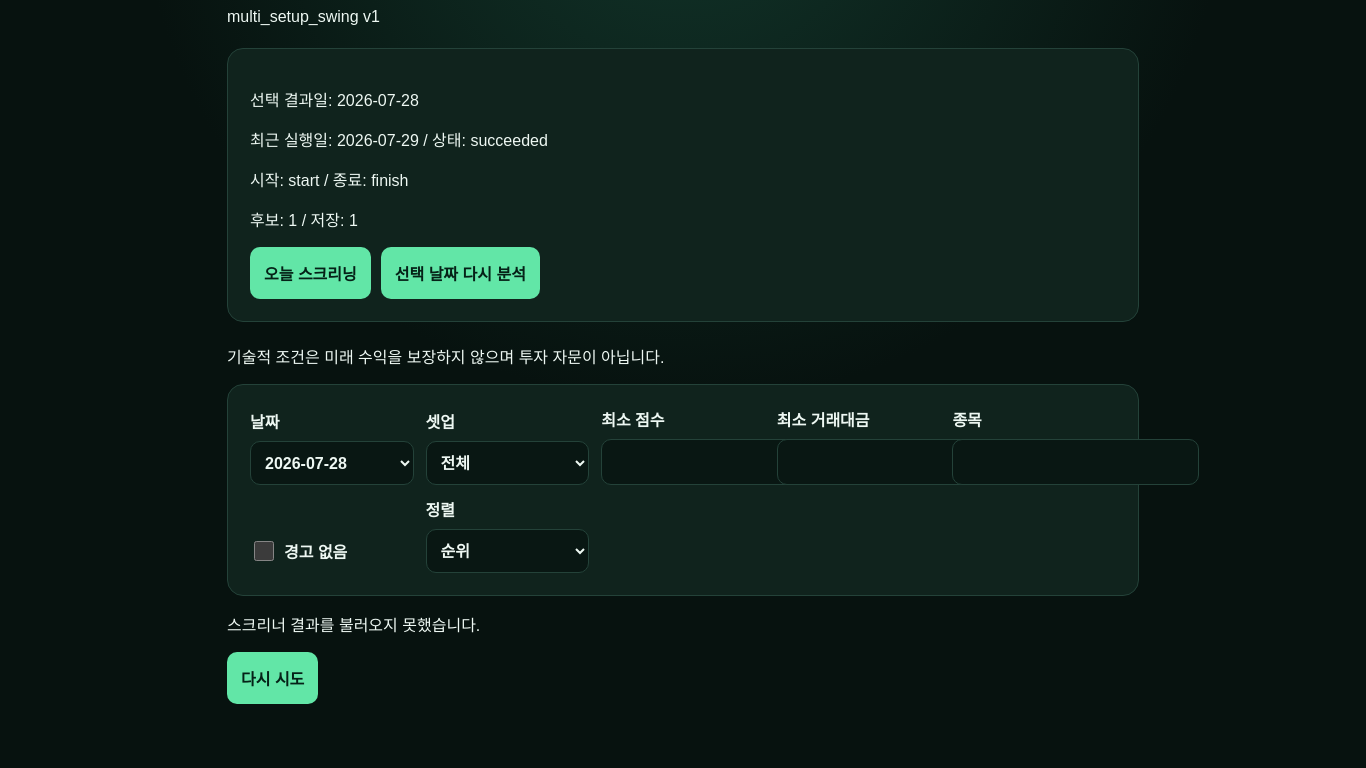
Test: ScreenerDashboard › retries the failed selected-date request
This screenshot has width=1366, height=768.
(page scrolled)
Click the button "다시 시도": (273, 678) x1=227 y1=652 x2=318 y2=704
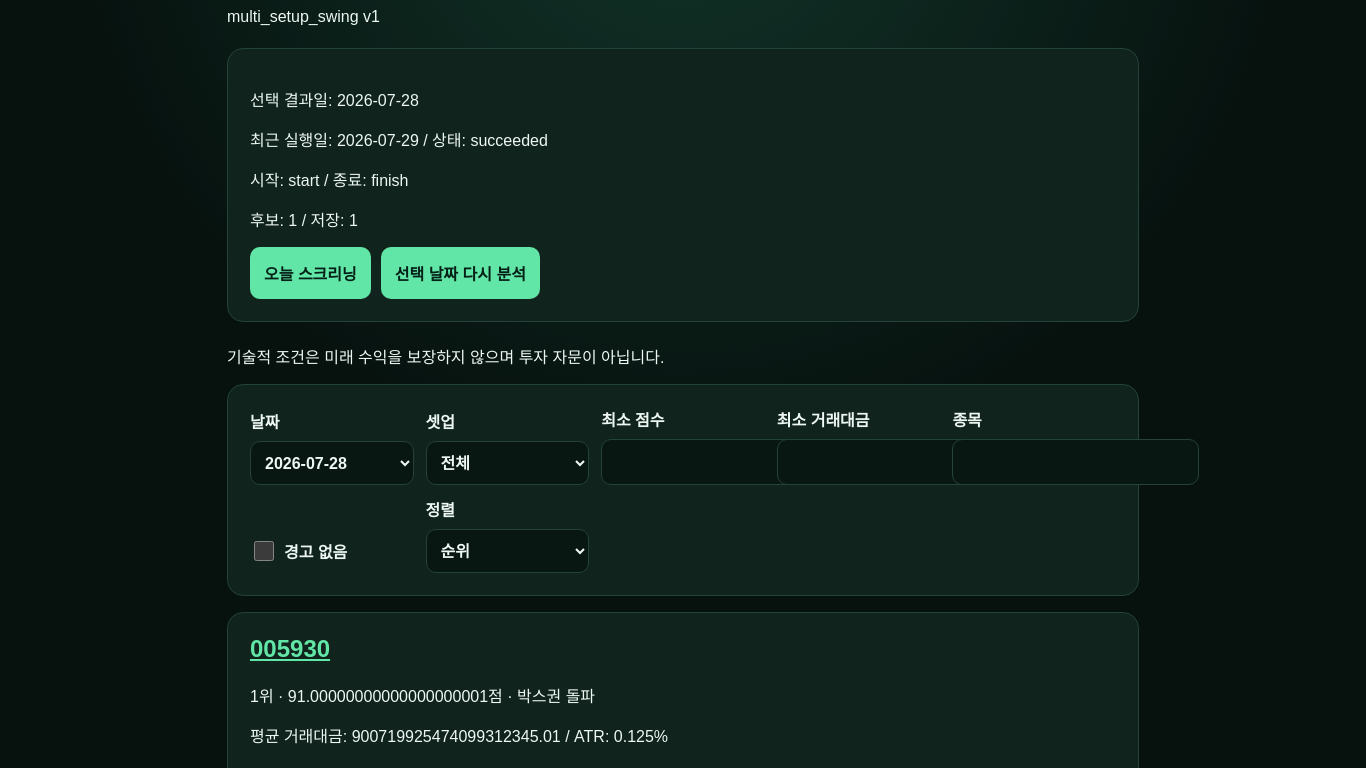
Result: the link "005930" is shown at x1=250 y1=635 x2=330 y2=662
